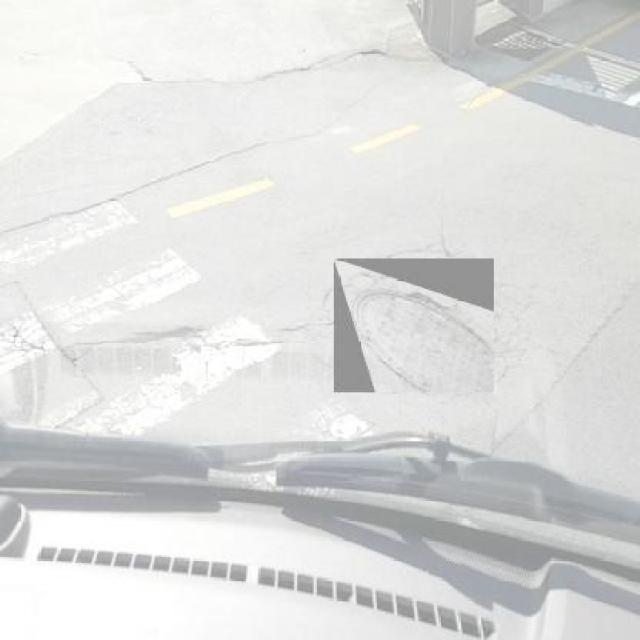Manhole: (334, 258, 494, 392)
Pothole: (142, 320, 199, 346)
